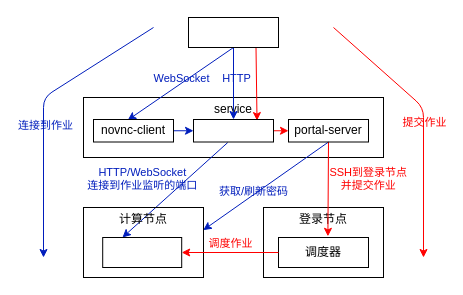
The diagram is 463 pixels wide and 295 high, and some of its shapes have lost their labels. Here are the shapes that lost their labels. From the top down, the centre of each, then its label:
point (233, 32): 客户端浏览器
point (233, 130): portal-web
point (142, 252): 作业
